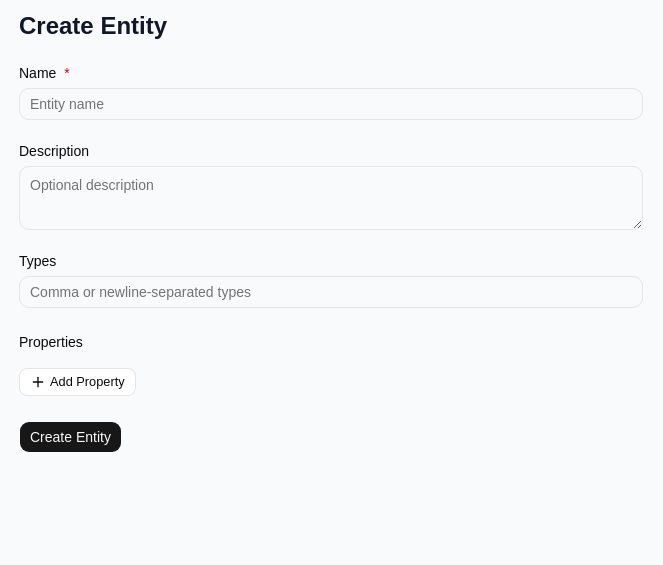
Test: CreateEntityPage › error handling › displays error message when submission fails
Type "Test Entity" into the field with test id "entity-name-input" at (331, 104), box [19, 88, 643, 120]
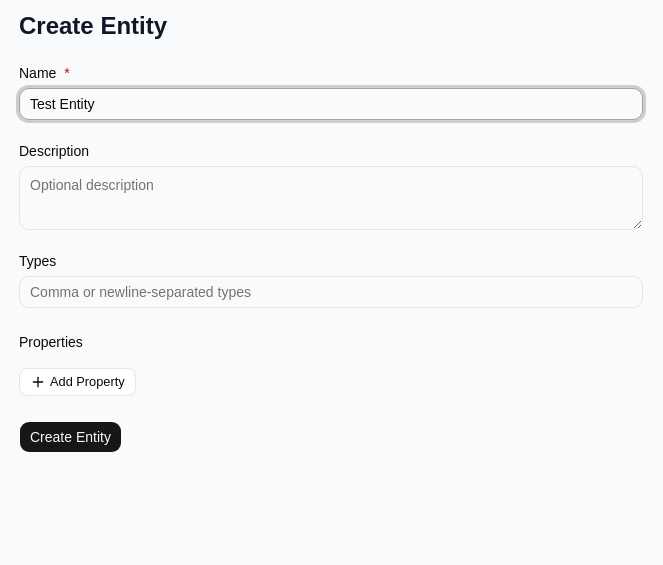
Click the button with test id "entity-submit" at (70, 437), box [19, 421, 122, 453]
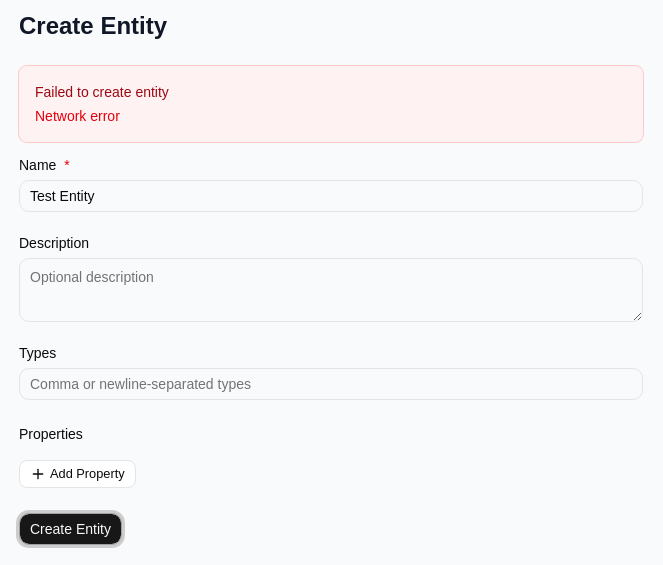
Now the element with test id "create-error" is shown, box [19, 66, 643, 142]
Now the text "Failed to create entity" is shown, box [35, 84, 169, 100]
Now the text "Network error" is shown, box [35, 108, 120, 124]
